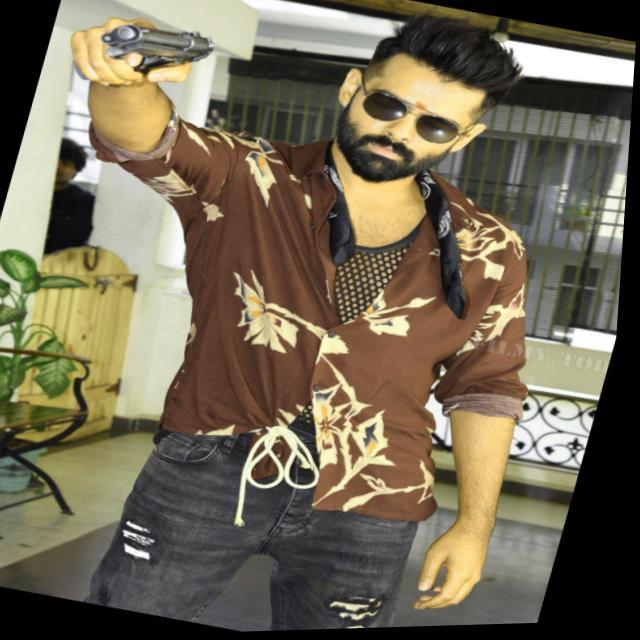weapon: (66, 5, 232, 126)
